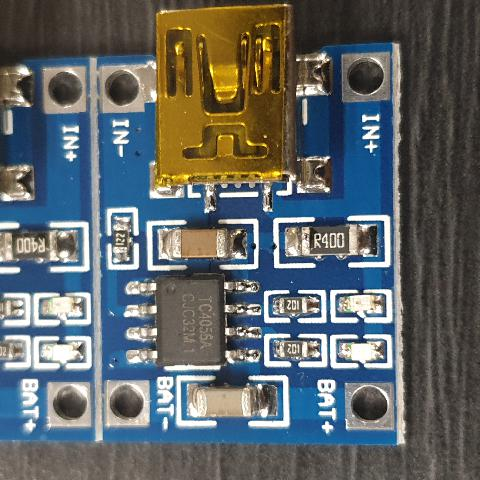batt+: (44, 380, 96, 426), (345, 382, 396, 428), (108, 378, 152, 426)
charge: (28, 292, 88, 326), (322, 294, 389, 322)
done: (332, 338, 392, 366), (40, 336, 88, 368)
rprog: (102, 210, 128, 266)
usb: (156, 10, 288, 182)
